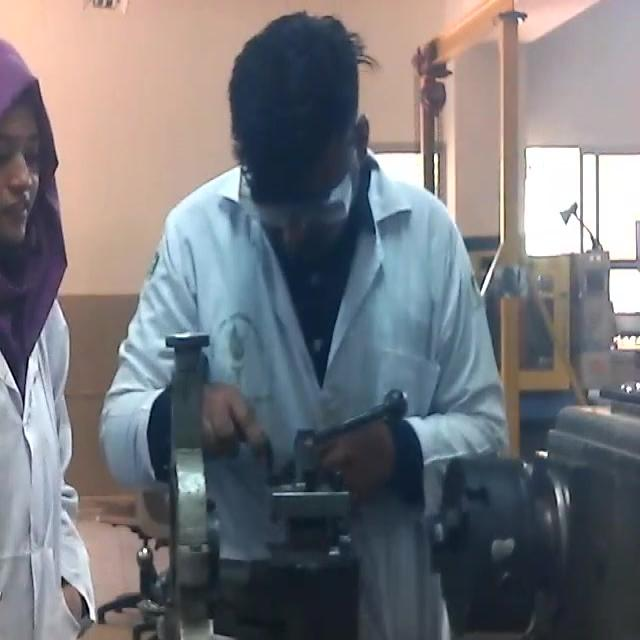googles: (245, 172, 355, 238)
labcoat: (100, 141, 508, 640), (1, 288, 93, 640)
